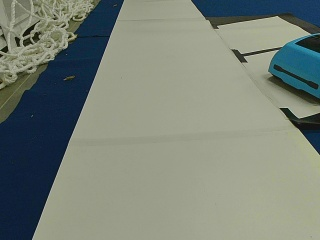car: (267, 32, 318, 100)
